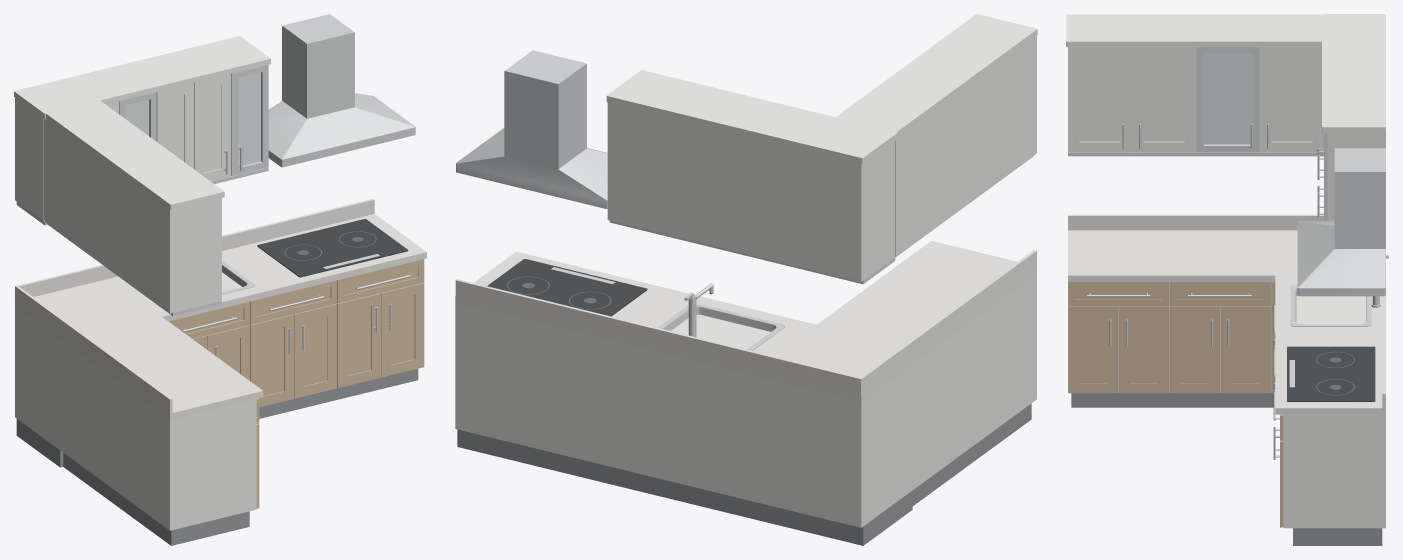
3 views of the same model, side by side, from view 1: azimuth 30°, elevation 25°; view 2: azimuth 150°, elevation 25°; view 3: azimuth 270°, elevation 25° (orthographic). The views are drawn at different scales.
Visible parts, largest first — view 1: Tủ bếp chữ L Dài cạnh chính=2400; Dài cạnh phụ=1800; Sâu tủ ; view 2: Tủ bếp chữ L Dài cạnh chính=2400; Dài cạnh phụ=1800; Sâu tủ ; view 3: Tủ bếp chữ L Dài cạnh chính=2400; Dài cạnh phụ=1800; Sâu tủ .
Part boxes in pixels (x1,y1,x2,y2): Tủ bếp chữ L Dài cạnh chính=2400; Dài cạnh phụ=1800; Sâu tủ : [14, 14, 426, 545]; Tủ bếp chữ L Dài cạnh chính=2400; Dài cạnh phụ=1800; Sâu tủ : [455, 14, 1037, 545]; Tủ bếp chữ L Dài cạnh chính=2400; Dài cạnh phụ=1800; Sâu tủ : [1066, 14, 1388, 545].
Size of the model in its own units: 2.41 by 2.2 by 1.82.
